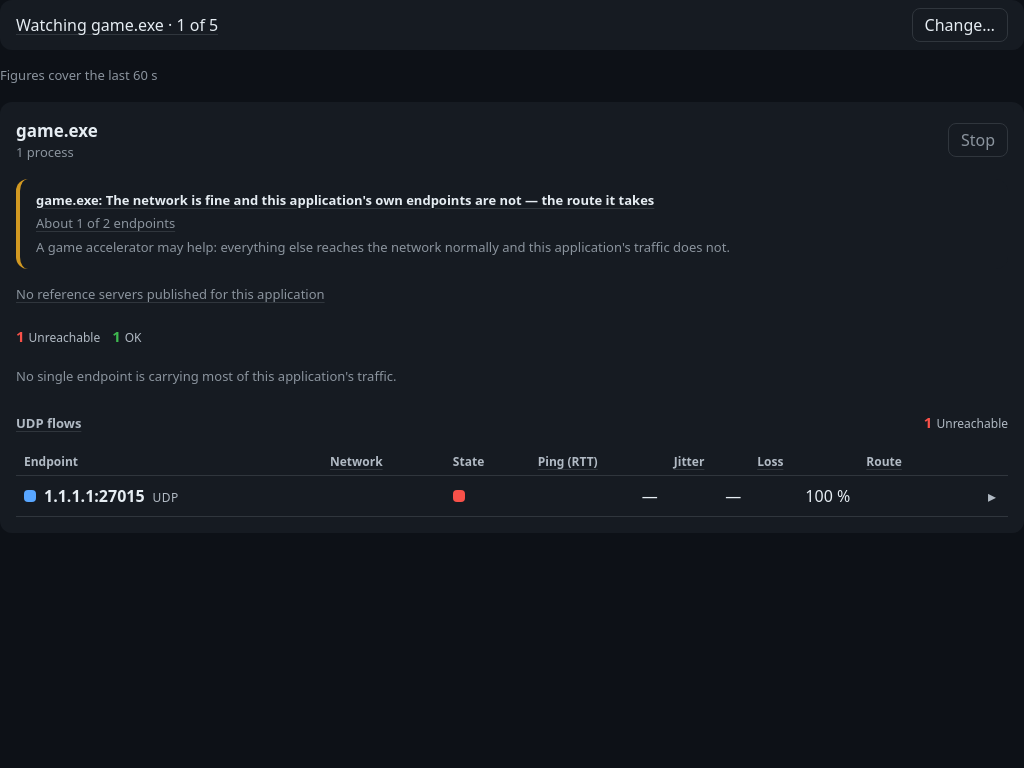
Test: AppMonitorPage › folds the picker away once something is being watched
Expected: the button "Watching game.exe · 1 of 5" is shown, [16, 13, 218, 37]
Expected: the text "Choose what to watch" is not shown
Click the button "Change…". click: (960, 25)
box: [912, 8, 1008, 42]
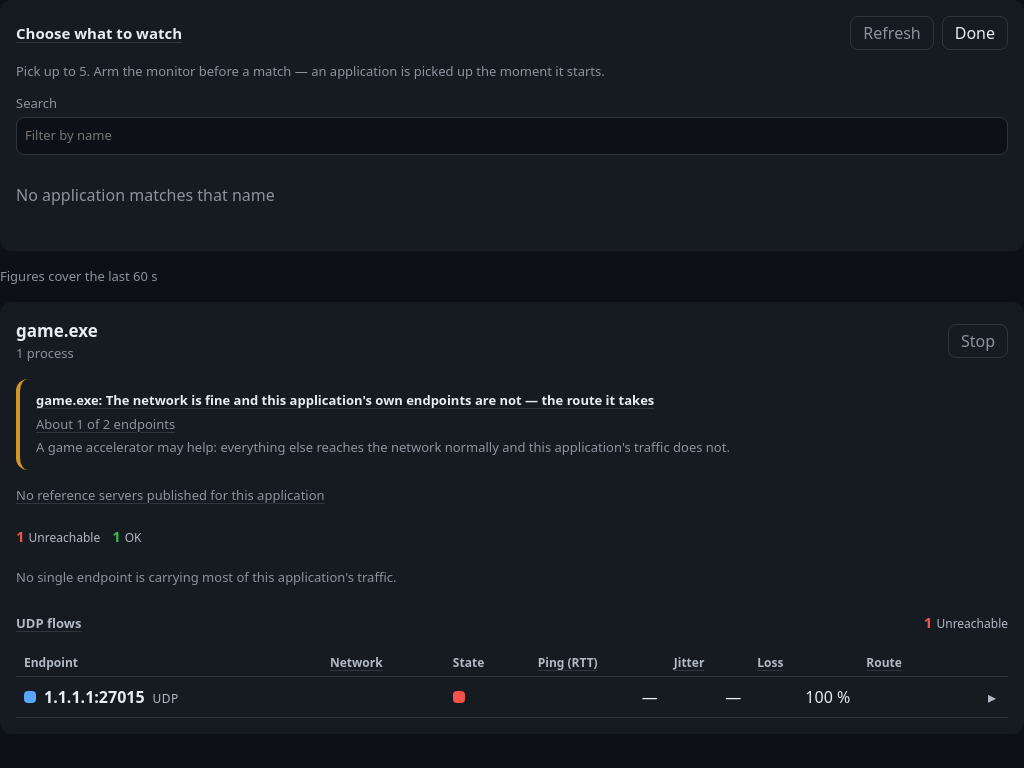
Result: the search field is shown at [16, 117, 1008, 154]
